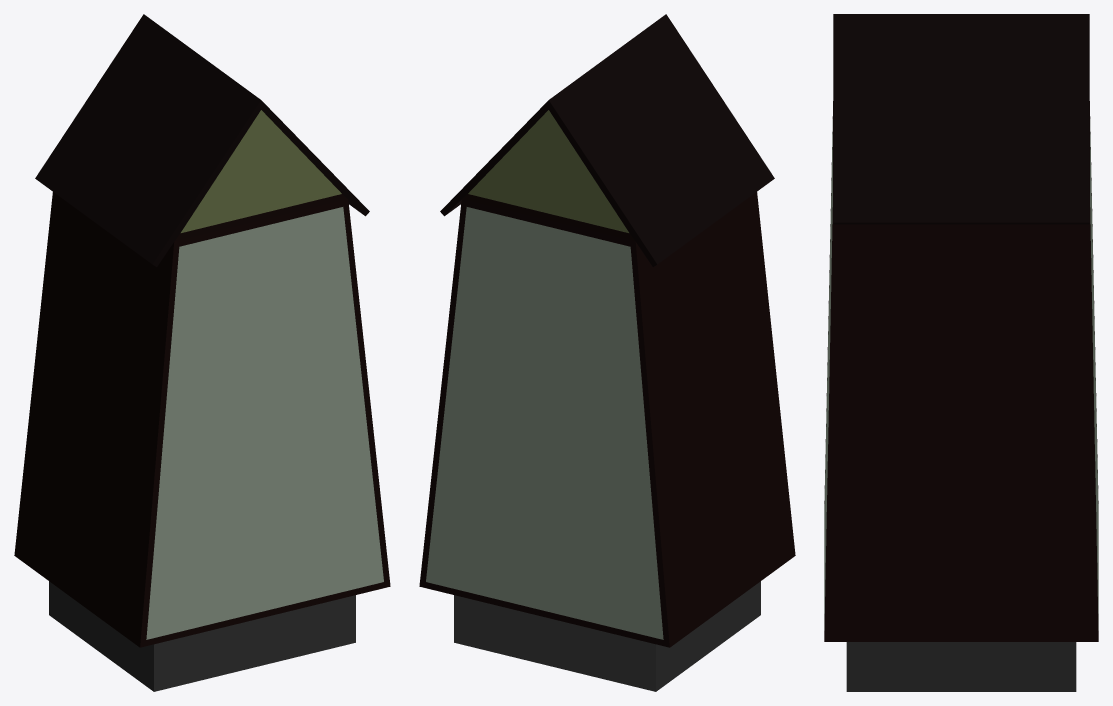
Rendered from FBX_Windmill_01.fbx.
3 views of the same model, side by side, from view 1: azimuth 30°, elevation 25°; view 2: azimuth 150°, elevation 25°; view 3: azimuth 270°, elevation 25° (orthographic). The views are drawn at different scales.
Visible parts, largest first — view 1: MH_Windmill_01; view 2: MH_Windmill_01; view 3: MH_Windmill_01.
Part boxes in pixels (x1,y1,x2,y2): MH_Windmill_01: [14, 14, 390, 691]; MH_Windmill_01: [419, 14, 795, 691]; MH_Windmill_01: [824, 14, 1098, 691].
Bounding box in the file's own units: 138 × 301 × 120.
